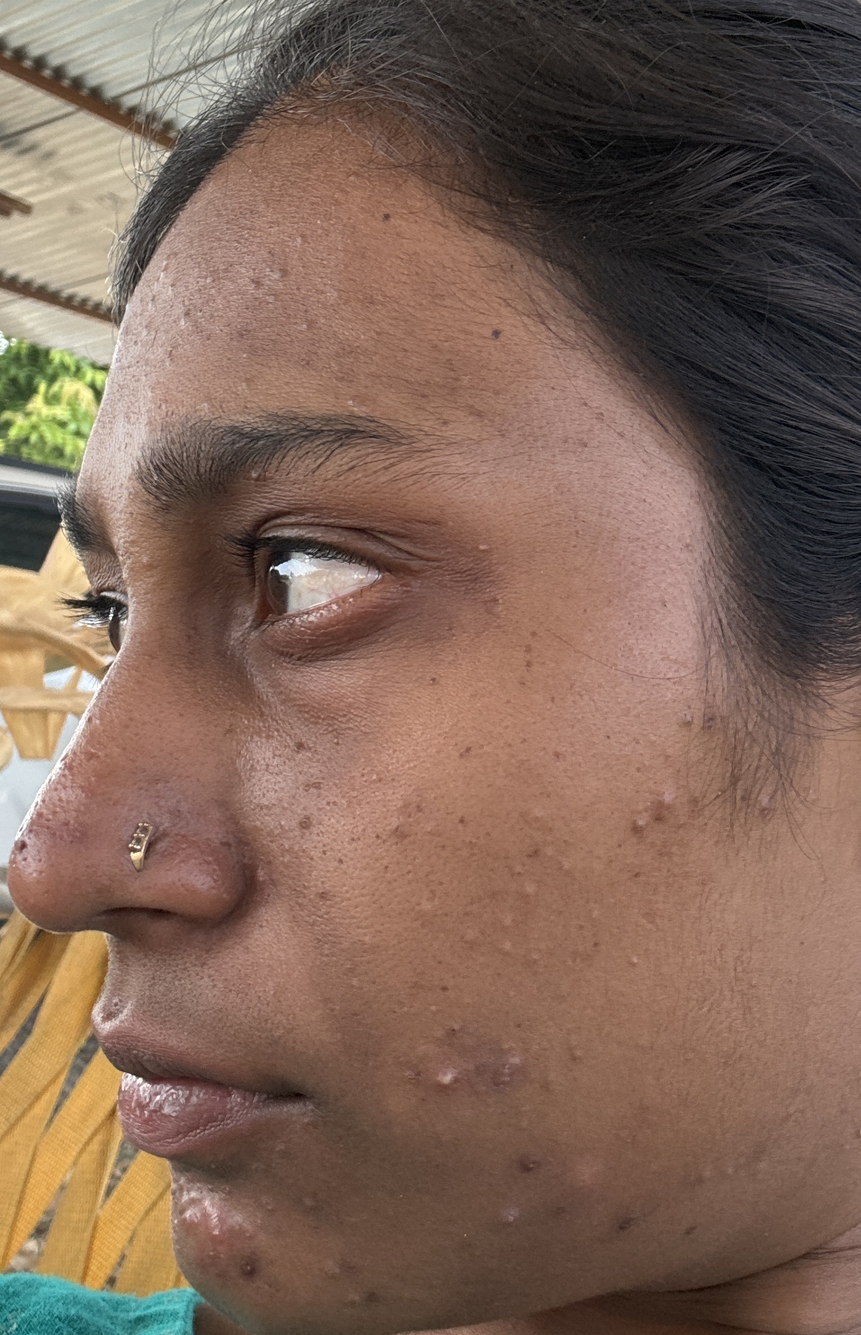closed_comedone: (228, 250, 331, 331), (312, 1250, 408, 1327), (602, 787, 697, 849), (479, 860, 560, 931), (146, 270, 204, 347), (486, 1180, 530, 1248)
pustule: (171, 1195, 243, 1248), (415, 1054, 481, 1107)
